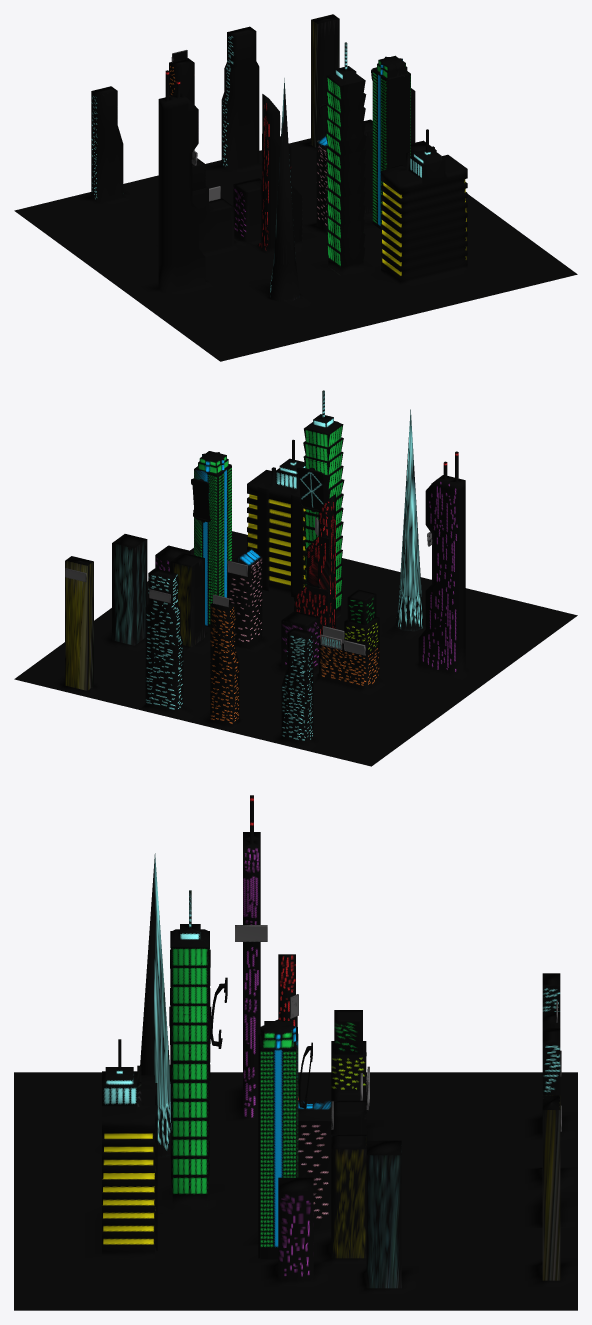
File: Cityscape_Model.fbx
3 views of the same model, one above another, from view 1: azimuth 30°, elevation 25°; view 2: azimuth 150°, elevation 25°; view 3: azimuth 270°, elevation 25° (orthographic). The views are drawn at different scales.
Parts seen in each view (by area): view 1: node_id4; view 2: node_id4; view 3: node_id4.
Part boxes in pixels (left/top/right/bottom): node_id4: left=14, top=14, right=577, bottom=361; node_id4: left=14, top=390, right=577, bottom=766; node_id4: left=14, top=795, right=577, bottom=1310.
Bounding box in the file's own units: 5608 × 3378 × 5608.
